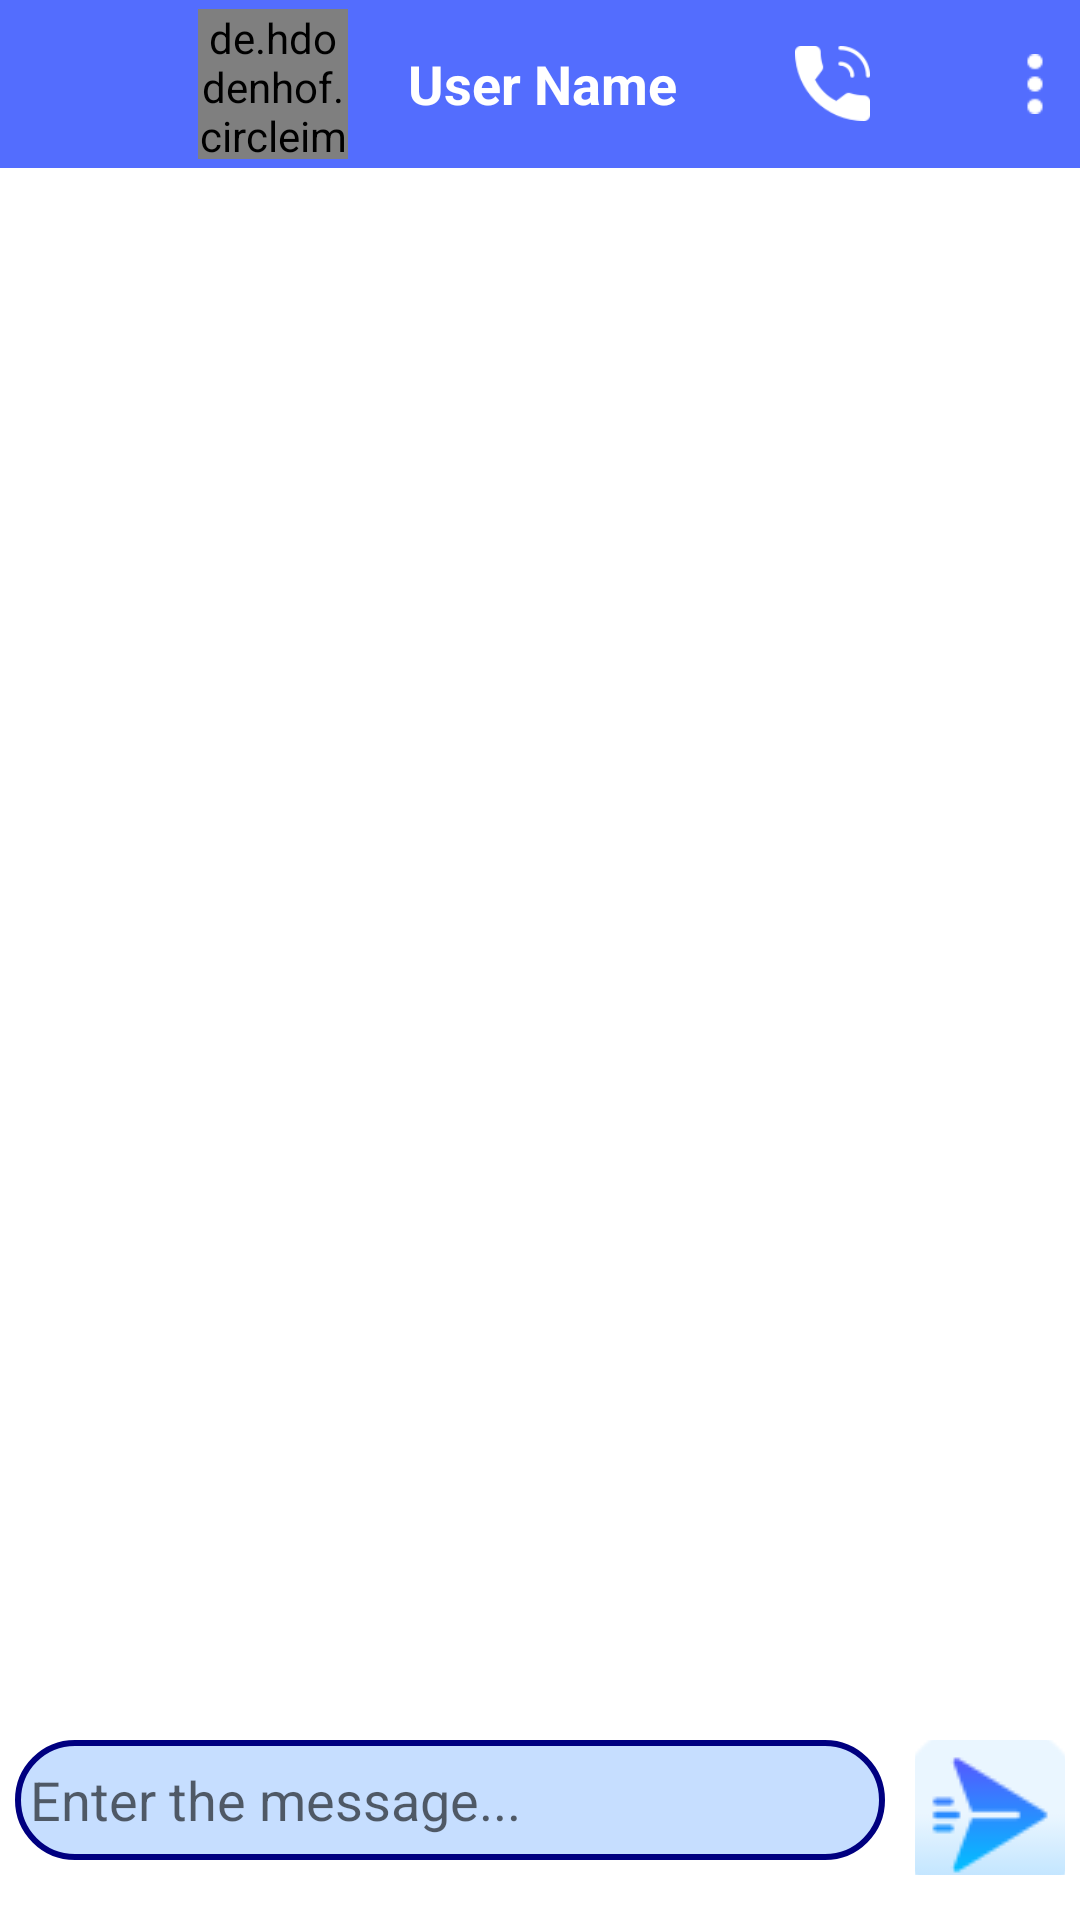

Icon click points for this 1080px×1920px phone screenshot, format (x=x, y=y):
menu: (x=1035, y=84)
phone: (x=832, y=83)
